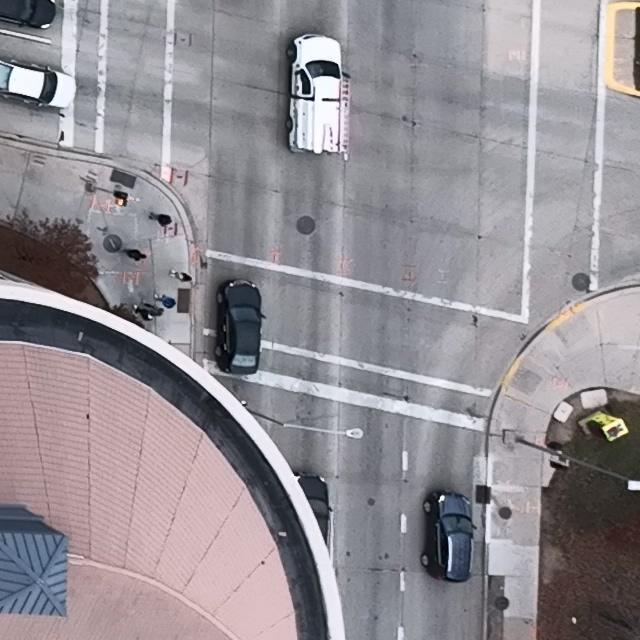car: (286, 33, 351, 157), (420, 488, 478, 583), (214, 278, 266, 375), (0, 59, 77, 110), (293, 470, 333, 546), (0, 0, 57, 29)
